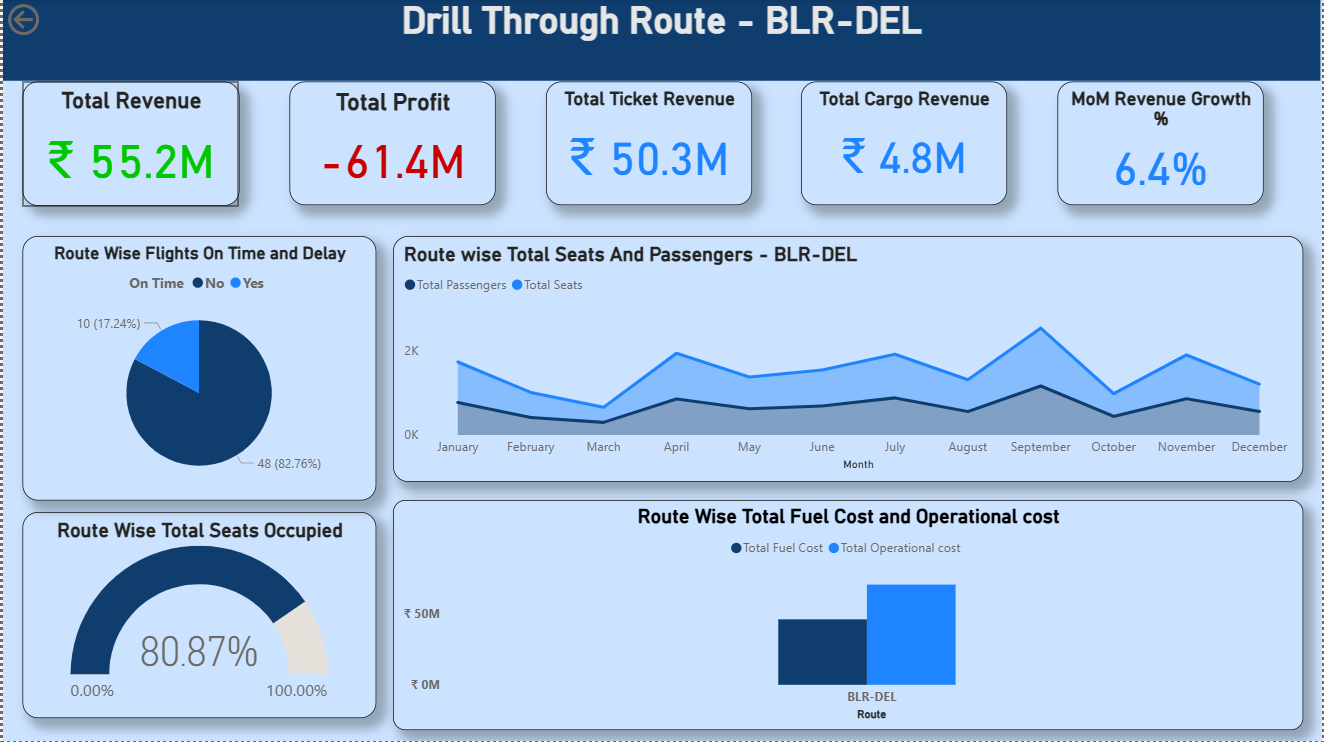

The page's visual inventory and layout, read from the dashboard file:
{"tool":"powerbi","page":{"name":"Drill Through","canvas":[1280,720],"ordinal":1},"visuals":[{"type":"card","title":"Total Revenue","fields":{"Values":["Measures Table.Total Revenue"]},"box":[18.2,79.6,210.4,120.9],"z":0},{"type":"card","title":"MoM Revenue Growth %","fields":{"Values":["Measures Table.MoM growth %"]},"box":[1023.9,79.6,200,120],"z":1000},{"type":"card","title":"Total Cargo Revenue","fields":{"Values":["Measures Table.Total Cargo Revenue"]},"box":[775.1,79.6,200,120],"z":2000},{"type":"card","title":"Total Profit","fields":{"Values":["Measures Table.Total Profit"]},"box":[277.4,79.6,200,120],"z":3000},{"type":"card","title":"Total Ticket Revenue","fields":{"Values":["Measures Table.Total Ticket Revenue"]},"box":[526.2,79.6,200,120],"z":4000},{"type":"stackedAreaChart","fields":{"Category":["Date.Date.Variation.Date Hierarchy.Month"],"Y":["Measures Table.Total Passengers","Measures Table.Total Seats"]},"box":[378.3,230,883.3,238.3],"z":5000},{"type":"textbox","box":[0,0,1279.4,79.6],"z":6000},{"type":"gauge","title":"Route Wise Total Seats Occupied","fields":{"Y":["Measures Table.% of seats Occupied"]},"box":[18.3,498.3,343.3,200],"z":7000},{"type":"clusteredColumnChart","title":"Route Wise Total Fuel Cost and Operational cost","fields":{"Category":["IndiGo_Flight_Cleaned_Data.Route"],"Y":["Measures Table.Total Fuel Cost","Measures Table.Total Opera cost"]},"box":[378.3,486.7,883.3,223.3],"z":8000},{"type":"actionButton","box":[0,0,100,40],"z":9000},{"type":"pieChart","title":"Route Wise Flights On Time and Delay","fields":{"Category":["IndiGo_Flight_Cleaned_Data.On_Time"],"Y":["CountNonNull(IndiGo_Flight_Cleaned_Data.Flight_ID)"]},"box":[18.3,230,343.3,256.7],"z":10000}]}

Visuals, with their boxes in screenshot pixels (x1, y1, x2, y2), scaled from the page's 1280x720 canvas onto the 1324x742 screenshot:
"Total Revenue" card: [19, 82, 236, 207]
"MoM Revenue Growth %" card: [1059, 82, 1266, 206]
"Total Cargo Revenue" card: [802, 82, 1009, 206]
"Total Profit" card: [287, 82, 494, 206]
"Total Ticket Revenue" card: [544, 82, 751, 206]
stackedAreaChart - Date.Date.Variation.Date Hierarchy.Month x Measures Table.Total Passengers: [391, 237, 1305, 483]
textbox: [0, 0, 1323, 82]
"Route Wise Total Seats Occupied" gauge: [19, 514, 374, 720]
"Route Wise Total Fuel Cost and Operational cost" clusteredColumnChart: [391, 502, 1305, 732]
actionButton: [0, 0, 103, 41]
"Route Wise Flights On Time and Delay" pieChart: [19, 237, 374, 502]
